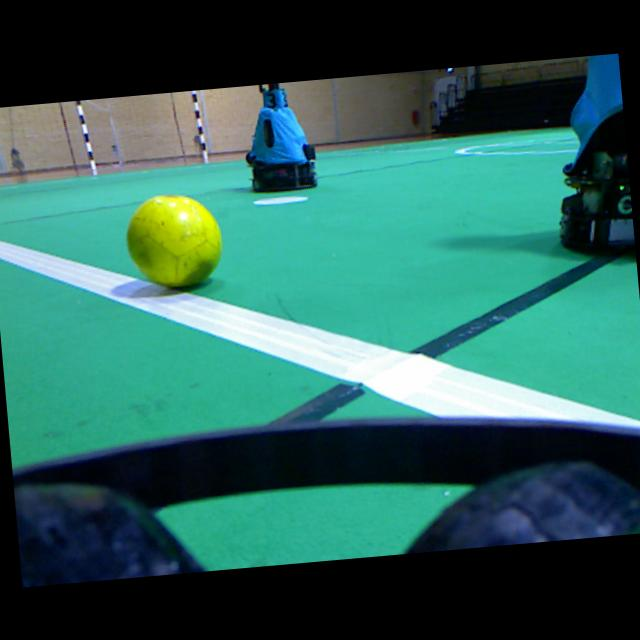ball: (126, 195, 220, 286)
